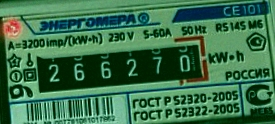0: (177, 52, 191, 74)
2: (46, 61, 61, 83), (124, 56, 138, 78)
6: (72, 61, 86, 82), (98, 59, 112, 79)
7: (149, 54, 164, 76)
screen: (25, 31, 216, 103)
